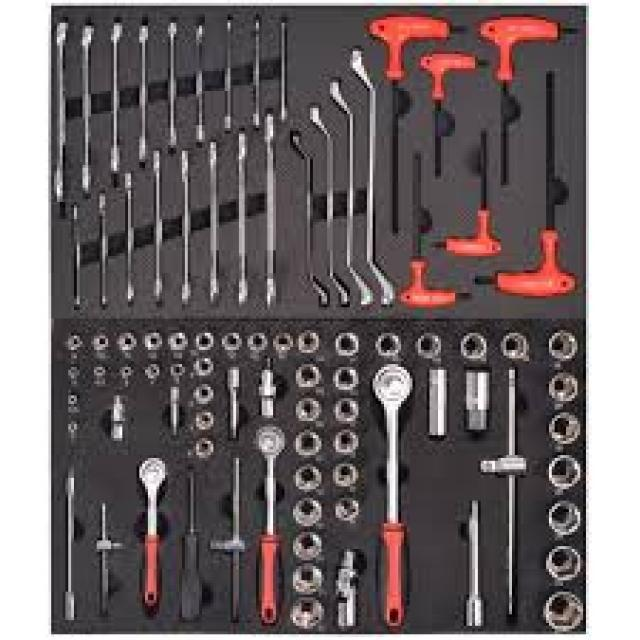screwdriver: (176, 462, 212, 624)
wrench: (369, 362, 418, 634), (250, 422, 290, 625), (128, 454, 174, 614)
